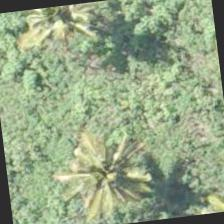Kelapa_Sawit: (75, 132, 176, 223)
